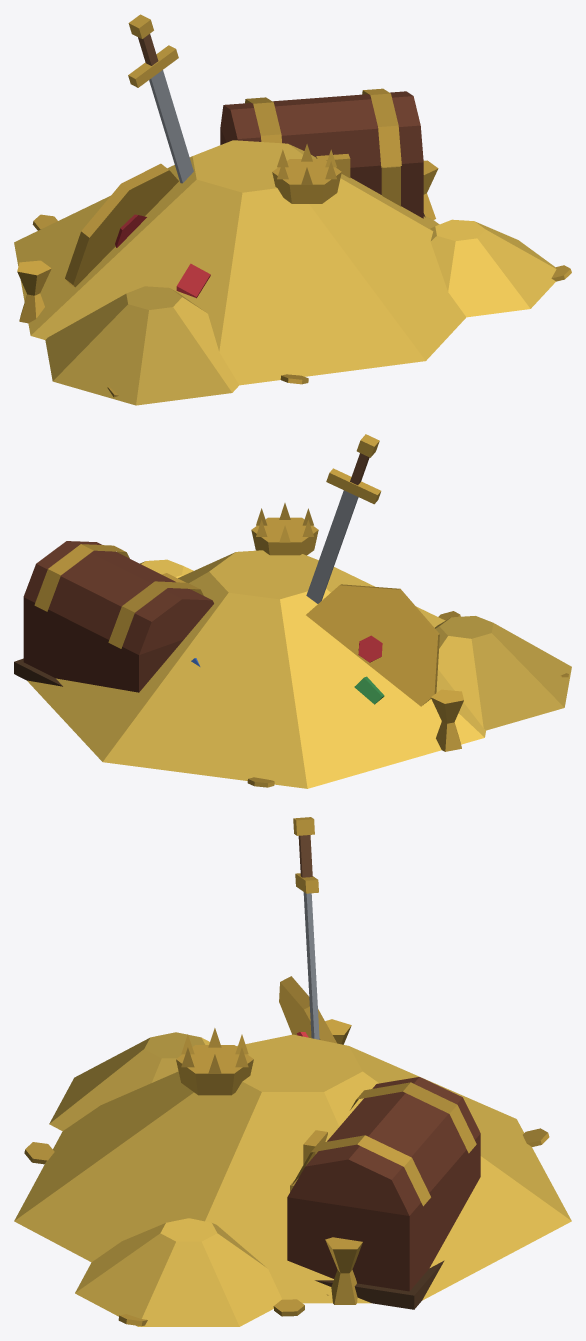
File: dragon_hoard.glb
3 views of the same model, one above another, from view 1: azimuth 30°, elevation 25°; view 2: azimuth 150°, elevation 25°; view 3: azimuth 270°, elevation 25° (orthographic). The views are drawn at different scales.
Visible parts, largest first — view 1: dragon_hoard; view 2: dragon_hoard; view 3: dragon_hoard.
Part boxes in pixels (<box>): dragon_hoard: <box>14,14,571,405</box>; dragon_hoard: <box>14,434,571,788</box>; dragon_hoard: <box>14,817,571,1326</box>.
Size of the model in its own units: 2.47 by 1.37 by 2.14.
